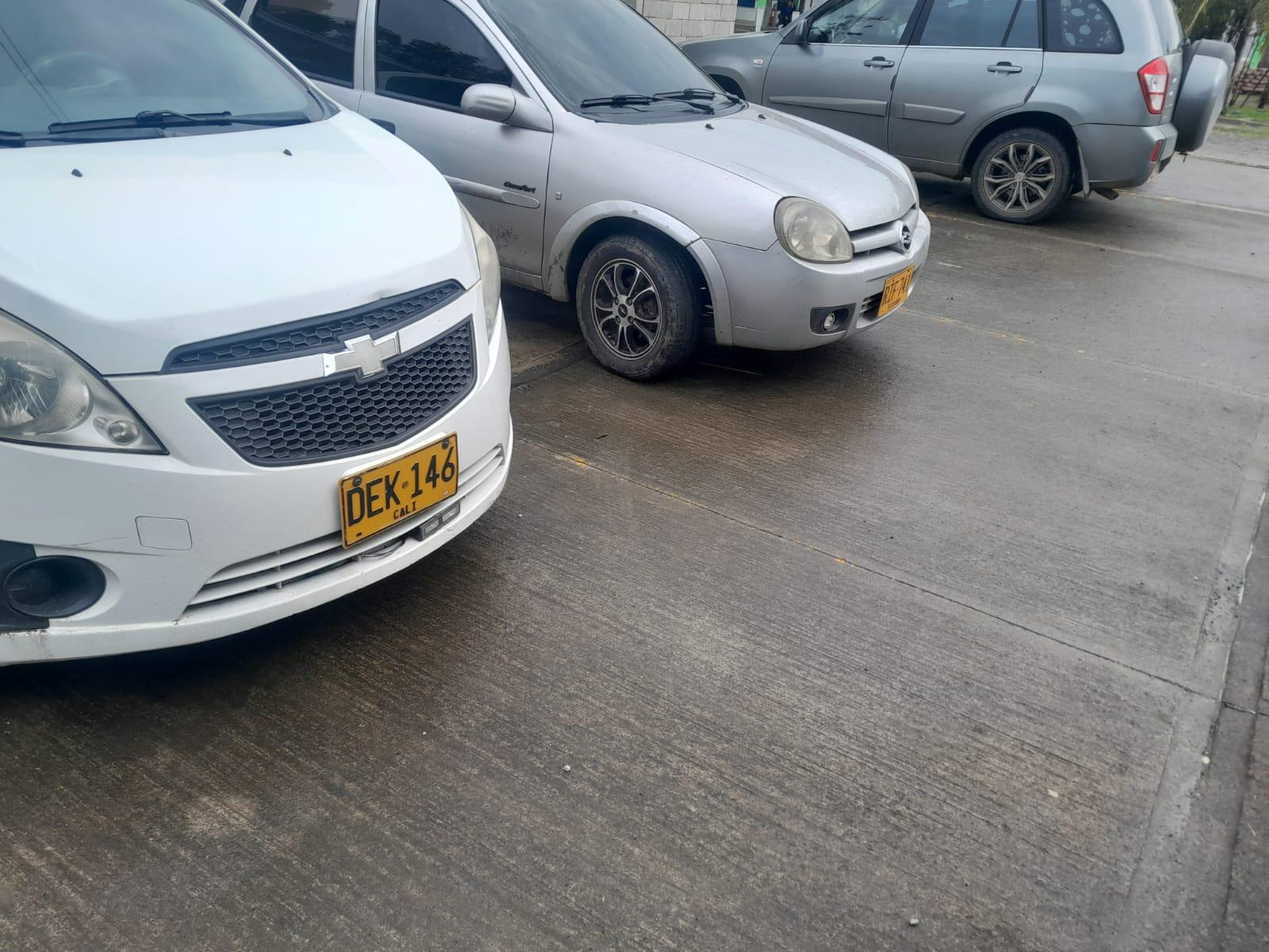placa: (340, 434, 458, 547)
